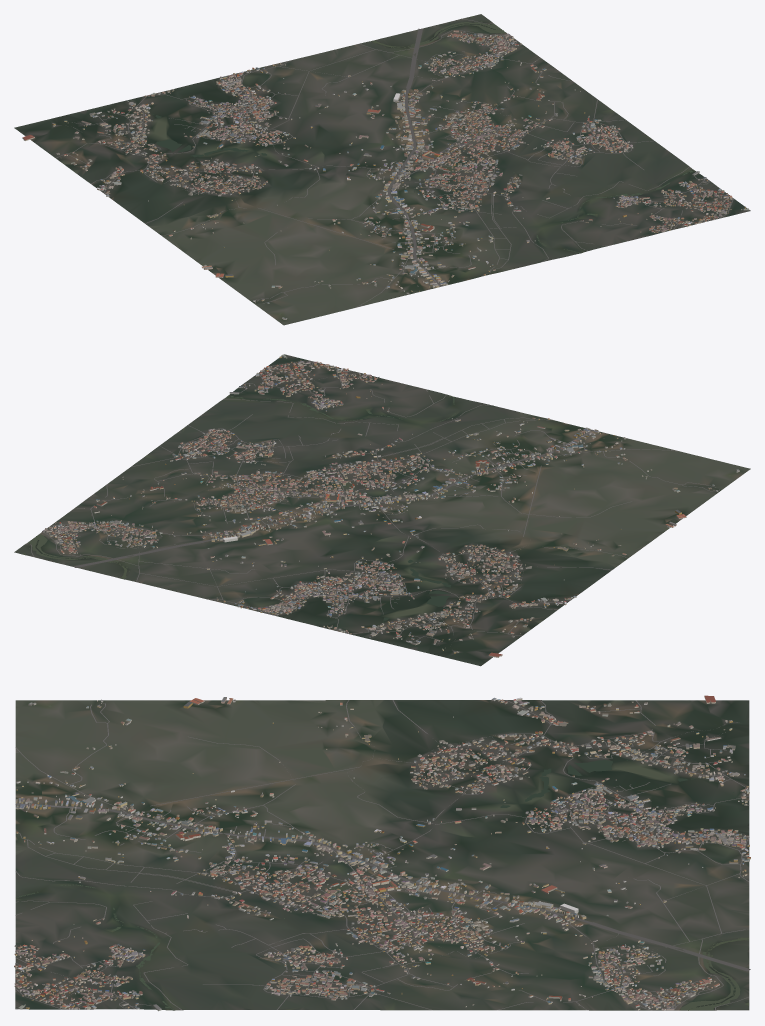
3 views of the same model, one above another, from view 1: azimuth 30°, elevation 25°; view 2: azimuth 150°, elevation 25°; view 3: azimuth 270°, elevation 25° (orthographic). The views are drawn at different scales.
Parts seen in each view (by area): view 1: ground, buildings, roads, water; view 2: ground, buildings, roads, water; view 3: ground, buildings, roads, water.
Boxes of the visible parts, x1,y1,x2,y2 form: ground: (14,14,750,325); buildings: (22,30,748,319); roads: (52,19,749,307); water: (149,16,692,314); ground: (14,354,750,666); buildings: (42,354,739,657); roads: (27,354,715,652); water: (21,396,730,628); ground: (15,700,749,1010); buildings: (14,695,750,1011); roads: (15,700,750,1010); water: (16,705,749,1010).
Size of the model in its own units: 2843 by 21.17 by 2816.
